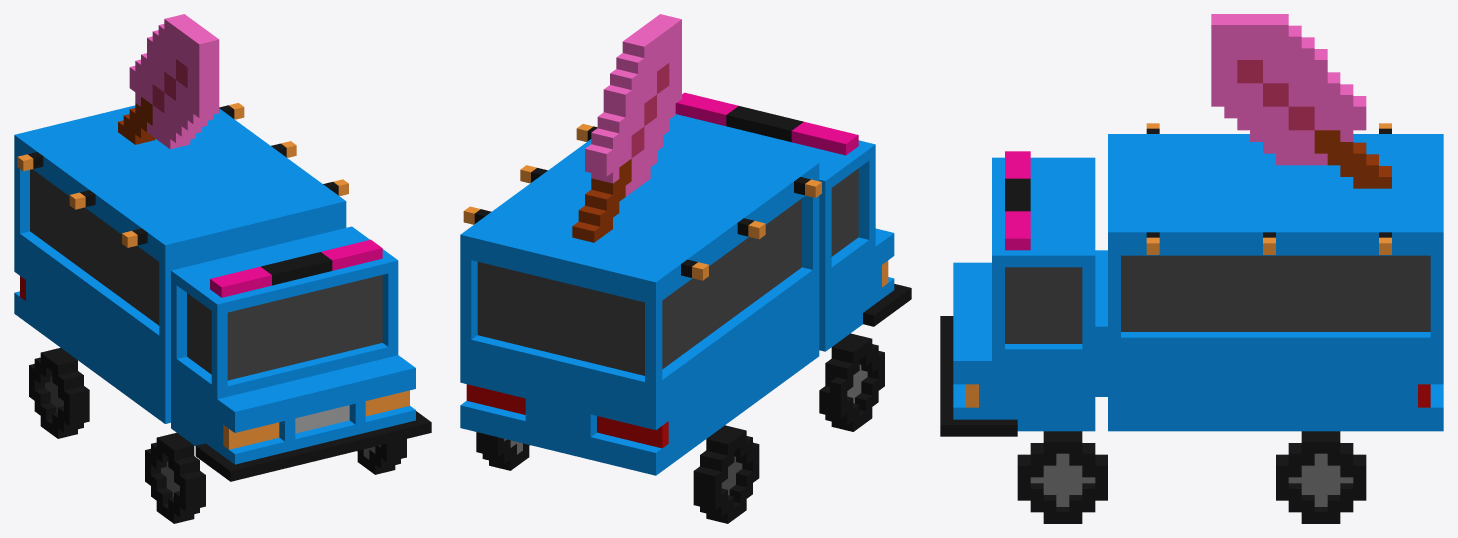
The model's file is blue_truck.vox.obj.
3 renders of one model, left to right at view 1: azimuth 30°, elevation 25°; view 2: azimuth 150°, elevation 25°; view 3: azimuth 270°, elevation 25°, orthographic. The views are drawn at different scales.
Bounding box in the file's own units: 2.2 × 3.8 × 3.9.
1 material, 1 textured.
